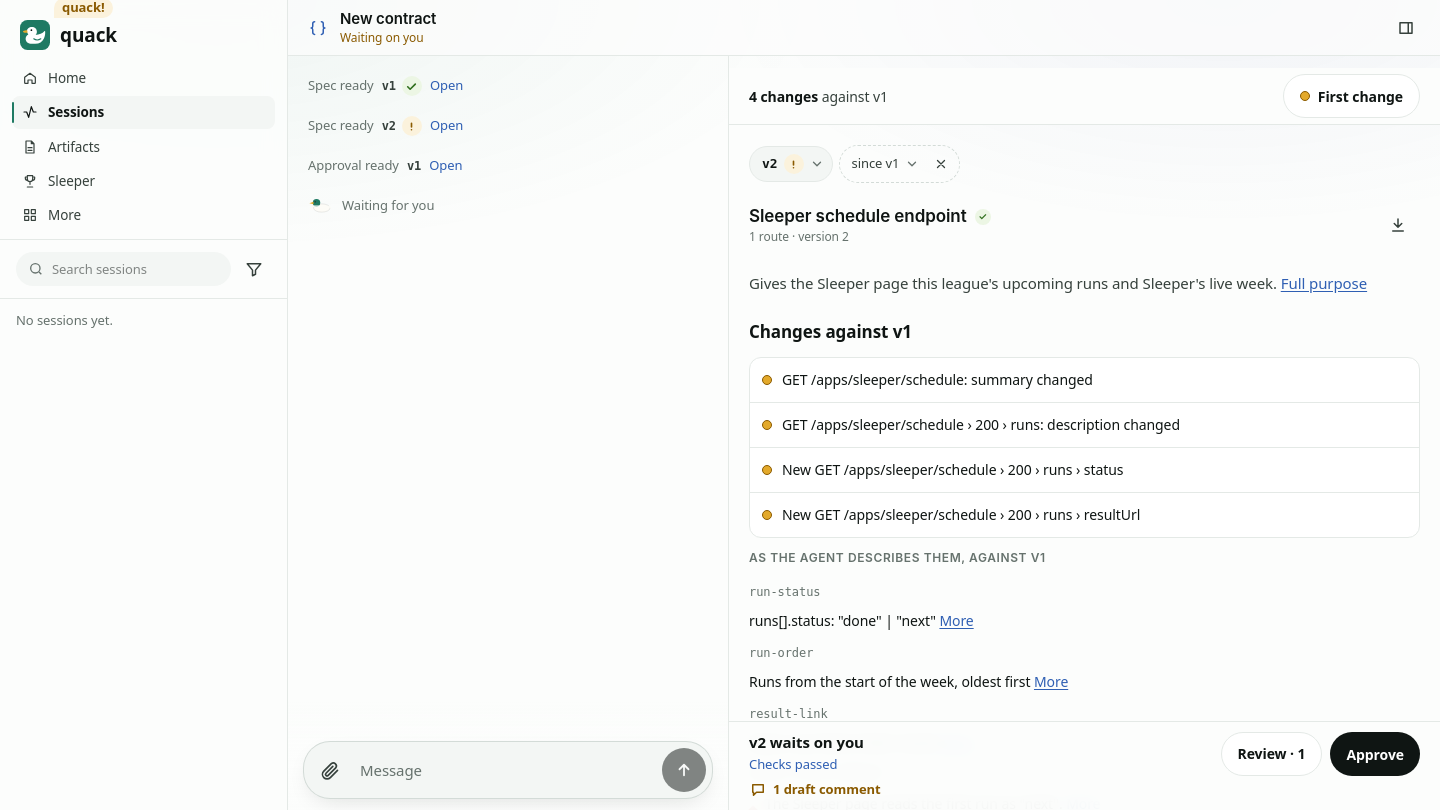
Test: a 409 because the ask was withdrawn says the version was replaced, and the comments are drafts again
The width and height of the screenshot is (1440, 810).
Check: the element named "Approval" shows "1 draft", box [729,721,1439,809]
What coordinates should you click on to do the following:
click the button "Review · 1"
I would click on:
 (1271, 754)
Its box is [1220,732,1322,776].
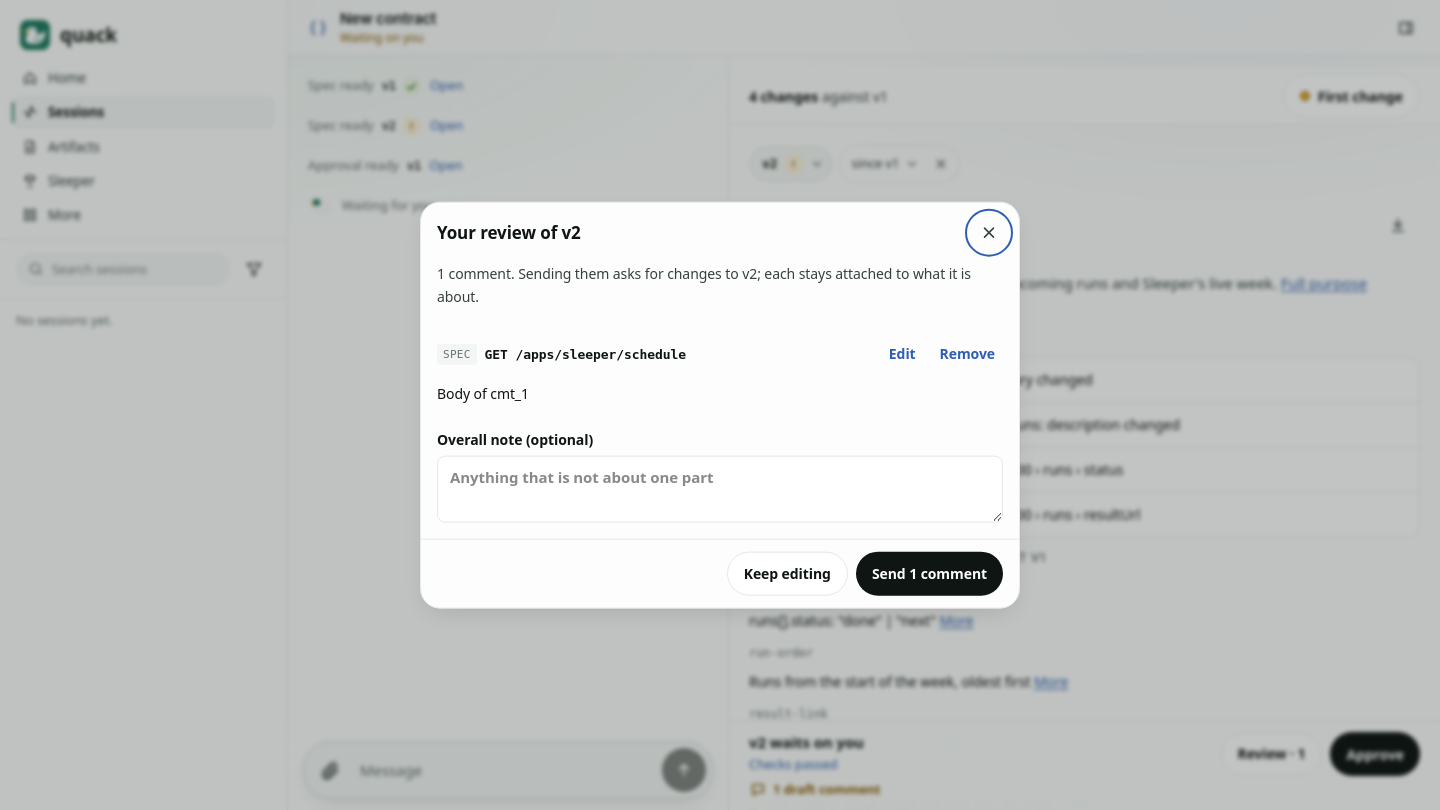
What coordinates should you click on to do the following:
click the button "Send 1 comment"
I would click on:
 (929, 573)
Its box is [856,551,1003,595].
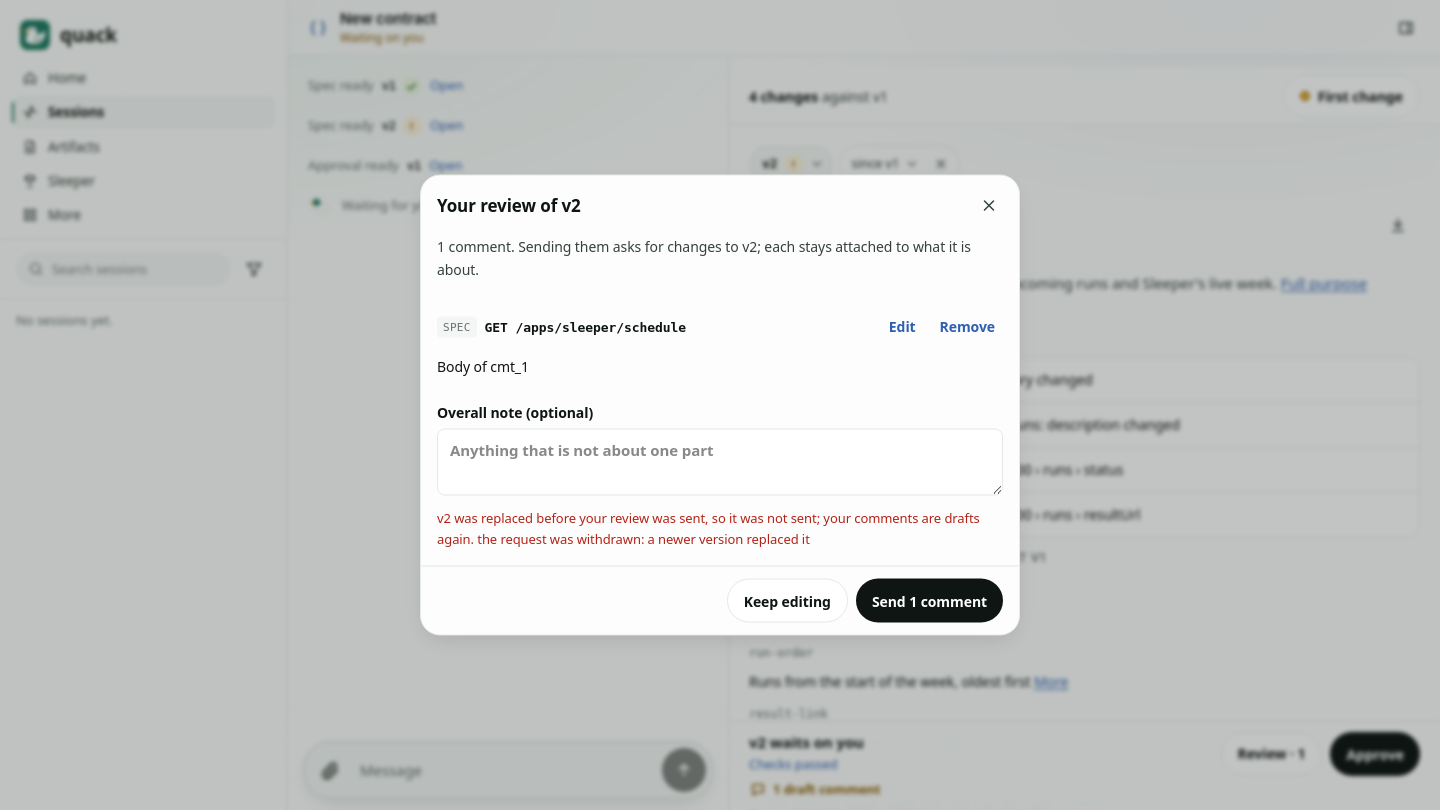
Check: the message shows "v2 was replaced before your review was sent, so it was not sent; your comments are drafts again. the request was withdrawn: a newer version replaced it", box [437,508,980,547]
